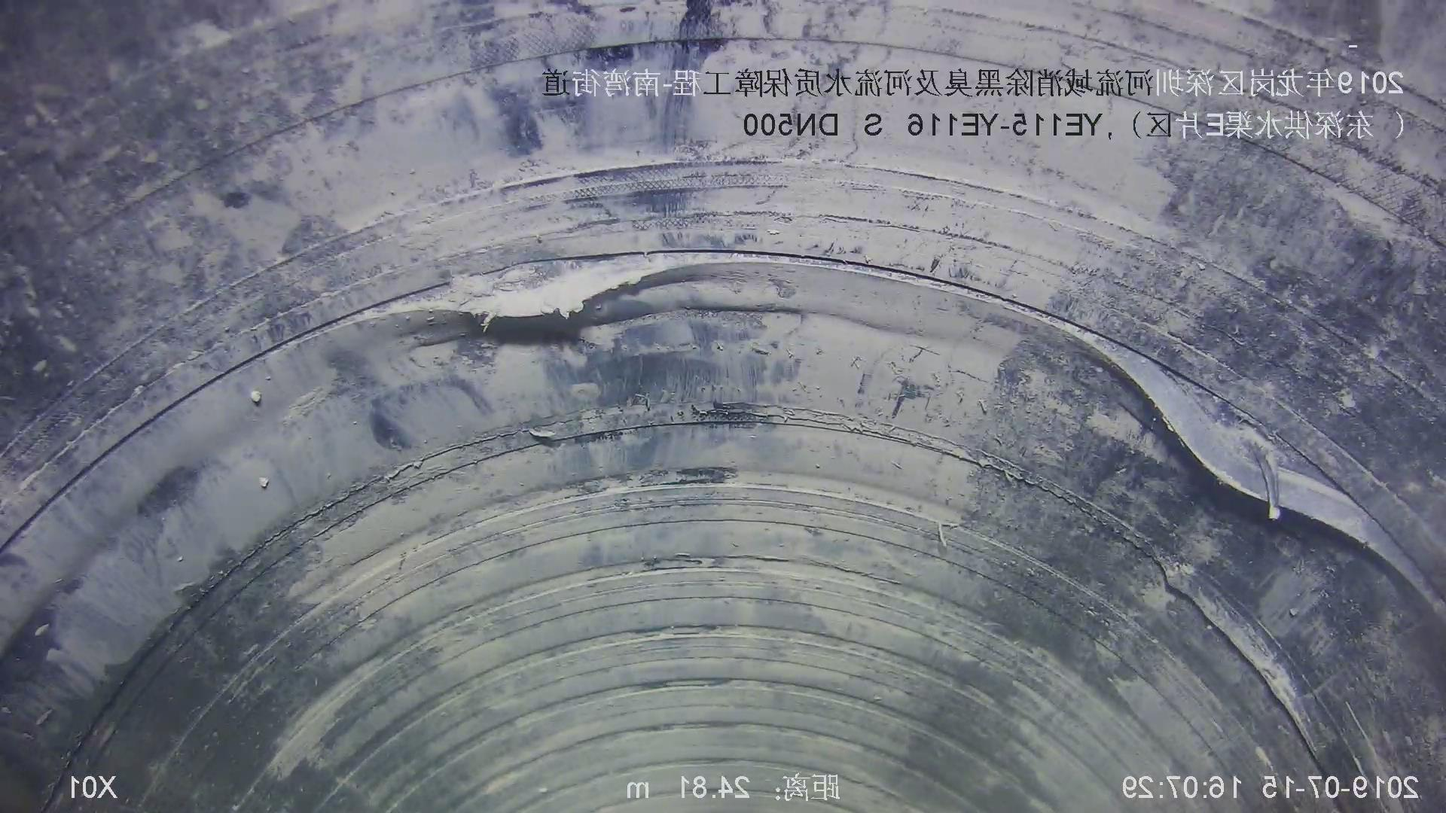JKCL: (115, 248, 1429, 594)
